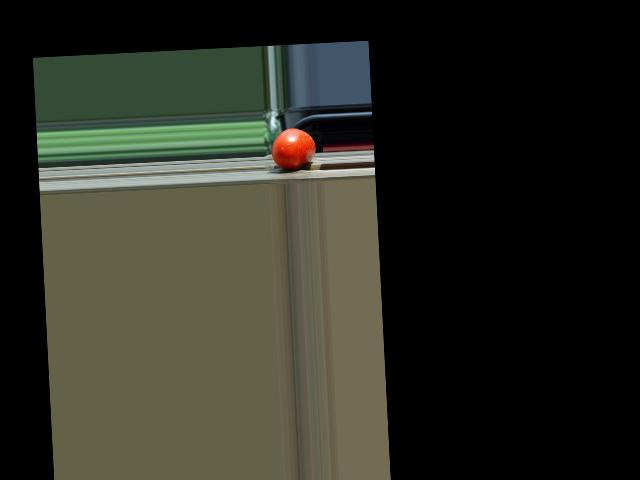tomato: (270, 127, 316, 169)
